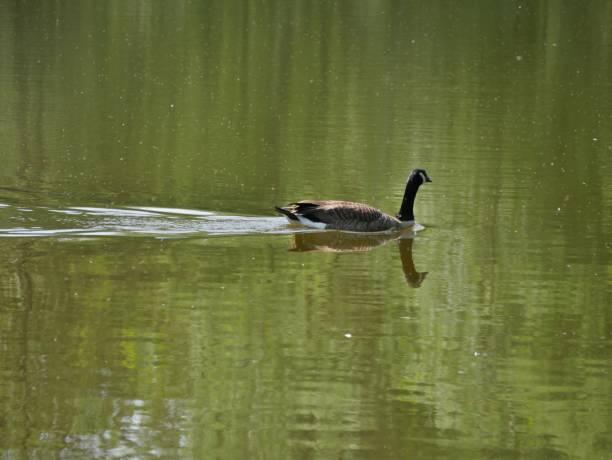Canadian-Goose: (273, 167, 434, 236)
